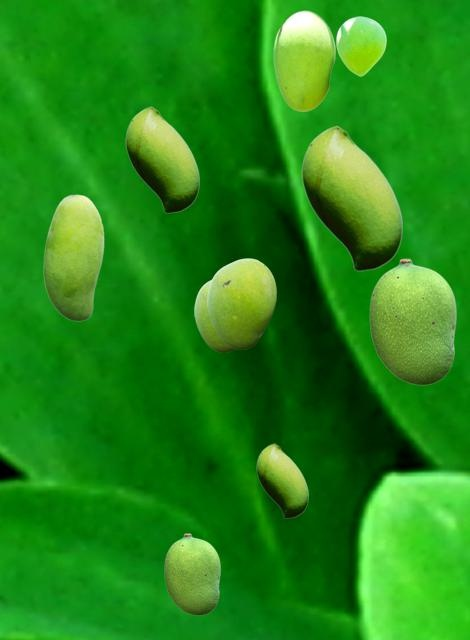green_mango: (301, 125, 401, 270), (369, 258, 455, 384), (125, 106, 198, 212), (43, 194, 103, 320), (207, 258, 275, 348), (273, 10, 334, 110), (164, 533, 219, 614), (256, 443, 307, 517), (194, 280, 235, 351), (336, 16, 385, 75)
